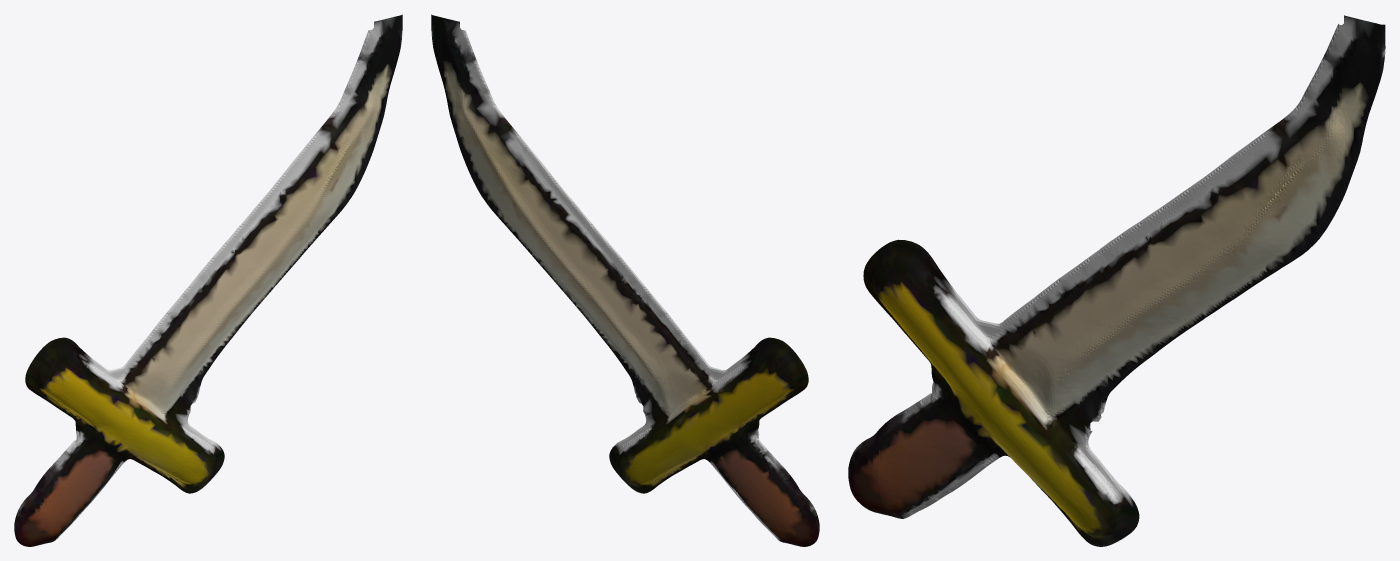
File: b_scimitar.glb
3 views of the same model, side by side, from view 1: azimuth 30°, elevation 25°; view 2: azimuth 150°, elevation 25°; view 3: azimuth 330°, elevation 25° (orthographic). The views are drawn at different scales.
Visible parts, largest first — view 1: geometry_0; view 2: geometry_0; view 3: geometry_0.
Part boxes in pixels (left/top/right/bottom): geometry_0: left=14, top=14, right=402, bottom=546; geometry_0: left=431, top=14, right=819, bottom=546; geometry_0: left=848, top=15, right=1385, bottom=546.
Size of the model in its own units: 0.7812 by 0.851 by 0.0515.
